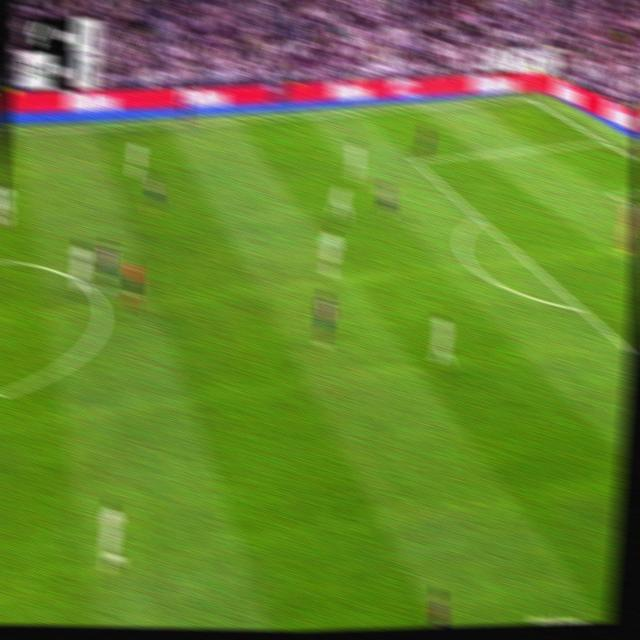bigarea_top_inner: (409, 152, 423, 169)
bigarea_top_outter: (595, 132, 610, 147)
bottom_arc_area_intersection: (572, 296, 588, 318)
corner: (520, 89, 537, 104)
smallarea_top_inner: (607, 187, 620, 202)
top_arc_area_intersection: (471, 207, 487, 226)
